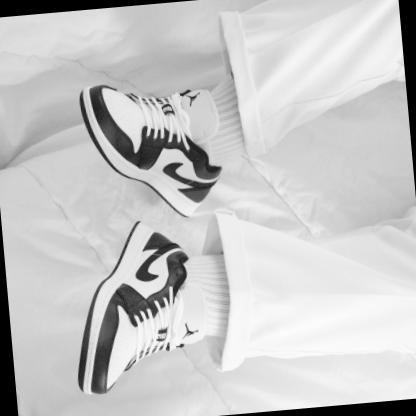ankle: (180, 262, 183, 265), (210, 170, 212, 172)
heel: (198, 200, 200, 203), (155, 234, 157, 236)
left_foot: (78, 76, 227, 227)
pinky: (107, 89, 109, 91), (109, 387, 111, 389)
right_foot: (65, 218, 201, 398)
toe: (109, 135, 111, 139), (98, 347, 100, 349)
